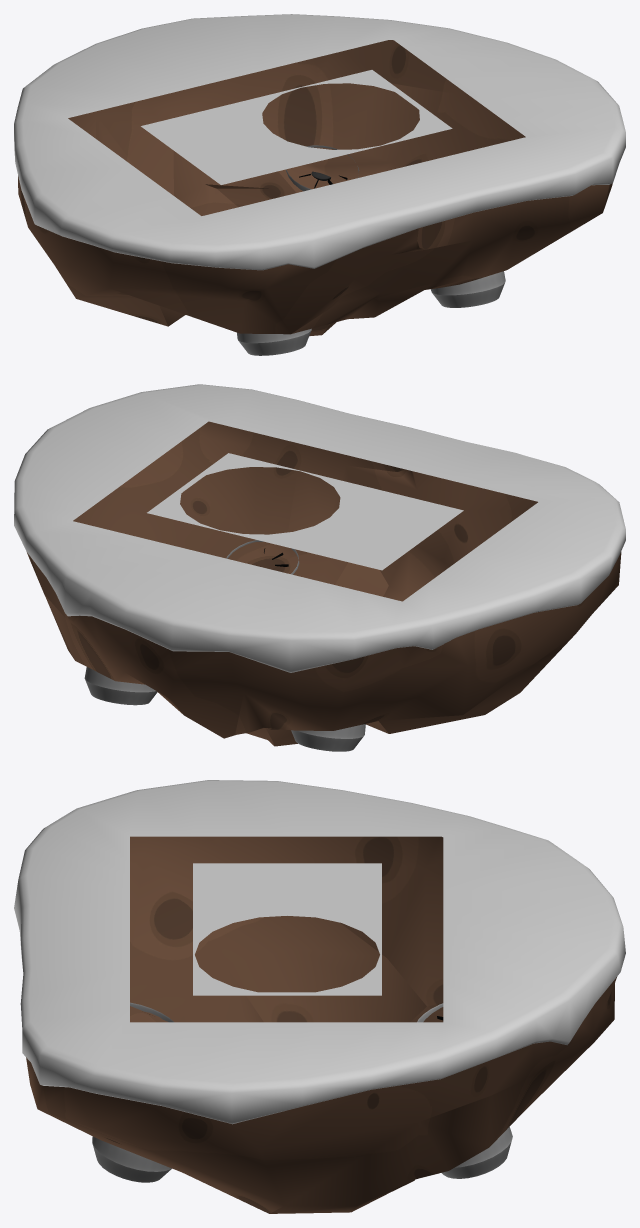
Rendered from Flying_Rock_3.fbx.
3 renders of one model, top to bottom at view 1: azimuth 30°, elevation 25°; view 2: azimuth 150°, elevation 25°; view 3: azimuth 270°, elevation 25°, orthographic. The views are drawn at different scales.
Parts seen in each view (by area): view 1: Flying_Stone:polySurface220group1, pPlane1, ReaThruster1, ReaThruster2; view 2: Flying_Stone:polySurface220group1, pPlane1, ReaThruster, zimCreateArchive_2049OBJ:ReaThruster; view 3: Flying_Stone:polySurface220group1, pPlane1, ReaThruster1, ReaThruster.
Boxes of the visible parts, box(x1,y1,x2,y2) form: Flying_Stone:polySurface220group1: box(14, 14, 625, 336); pPlane1: box(141, 70, 452, 184); ReaThruster1: box(431, 271, 505, 307); ReaThruster2: box(237, 328, 311, 355); Flying_Stone:polySurface220group1: box(14, 384, 625, 746); pPlane1: box(147, 453, 463, 570); ReaThruster: box(84, 667, 157, 705); zimCreateArchive_2049OBJ:ReaThruster: box(291, 724, 365, 751); Flying_Stone:polySurface220group1: box(14, 780, 625, 1213); pPlane1: box(193, 863, 381, 995); ReaThruster1: box(92, 1136, 171, 1182); ReaThruster: box(441, 1127, 512, 1178).
Bounding box in the file's own units: 37674 × 14186 × 31245.
